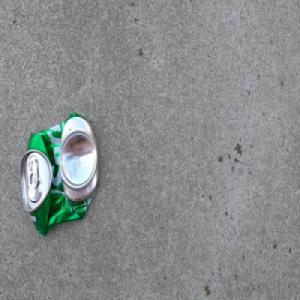SodaCan: (19, 111, 99, 239)
